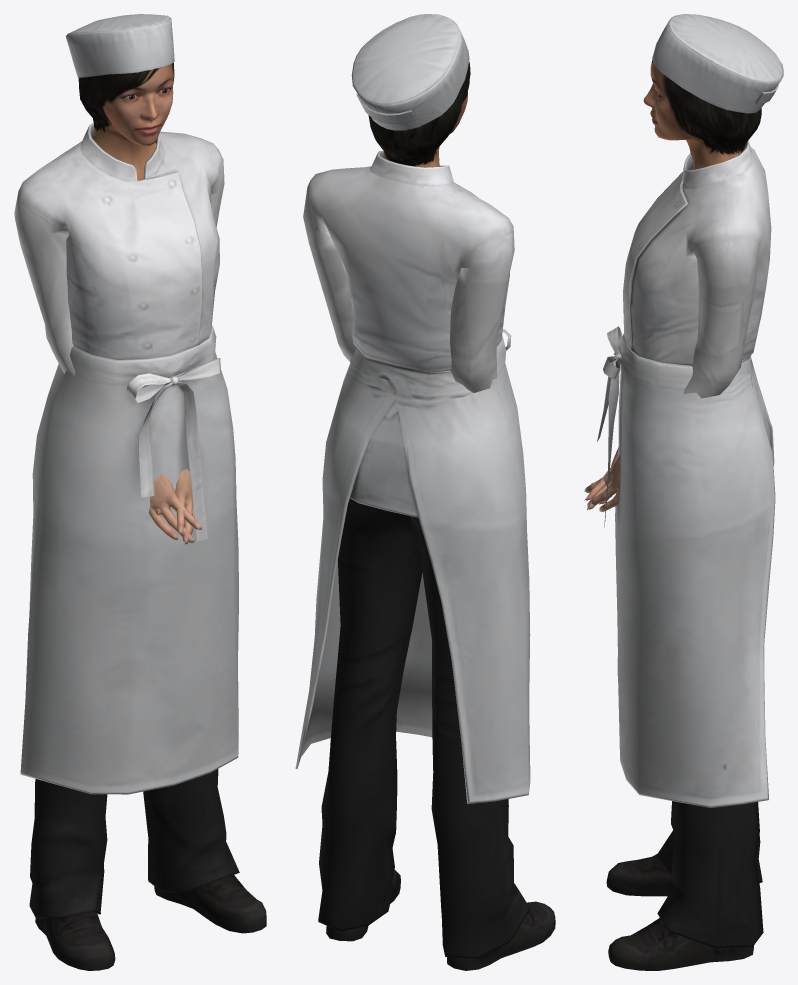
File: crew-crafty.glb
The picture shows the model from 3 angles, left to right: view 1: azimuth 30°, elevation 25°; view 2: azimuth 150°, elevation 25°; view 3: azimuth 270°, elevation 25°; orthographic projection.
Visible parts, largest first — view 1: crafty-mesh; view 2: crafty-mesh; view 3: crafty-mesh.
Part boxes in pixels (<box>): crafty-mesh: <box>14,14,266,970</box>; crafty-mesh: <box>295,14,555,970</box>; crafty-mesh: <box>584,14,783,970</box>.
Size of the model in its own units: 0.4349 by 1.73 by 0.3487.
Materials: 2 (2 with a texture image).
